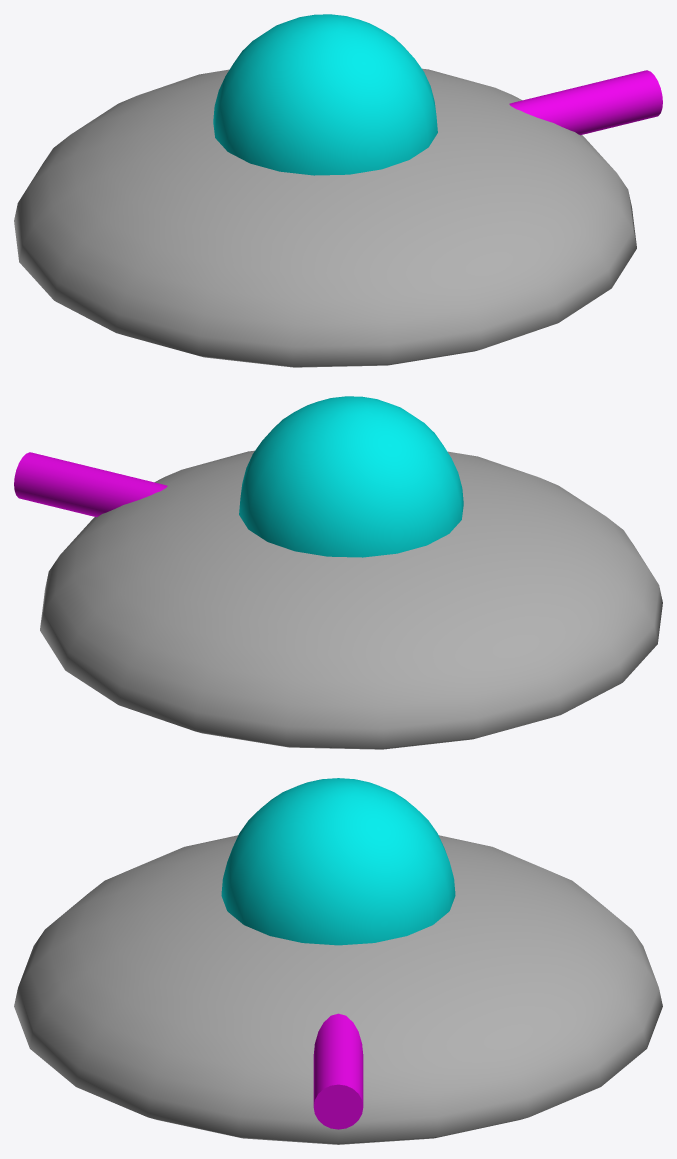
Rendered from miner ship.fbx.
The picture shows the model from 3 angles, top to bottom: view 1: azimuth 30°, elevation 25°; view 2: azimuth 150°, elevation 25°; view 3: azimuth 270°, elevation 25°; orthographic projection. The views are drawn at different scales.
Visible parts, largest first — view 1: pSphere1, pSphere2, pCylinder1; view 2: pSphere1, pSphere2, pCylinder1; view 3: pSphere1, pSphere2, pCylinder1.
Part boxes in pixels (x1,y1,x2,y2): pSphere1: (14, 68, 636, 367); pSphere2: (213, 14, 437, 175); pCylinder1: (509, 70, 662, 135); pSphere1: (40, 450, 662, 749); pSphere2: (239, 396, 463, 557); pCylinder1: (14, 452, 167, 517); pSphere1: (14, 835, 662, 1144); pSphere2: (221, 778, 455, 945); pCylinder1: (313, 1013, 363, 1129).
Size of the model in its own units: 6.1 by 2.36 by 5.55.
